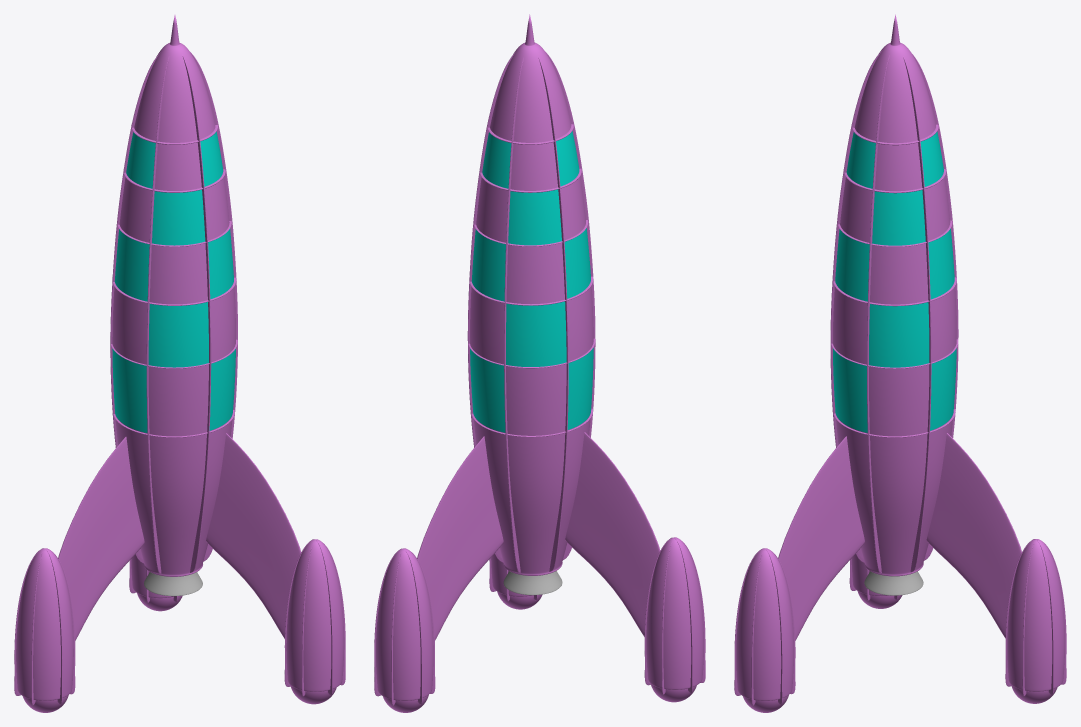
Rendered from Rocket.fbx.
3 renders of one model, left to right at view 1: azimuth 30°, elevation 25°; view 2: azimuth 150°, elevation 25°; view 3: azimuth 270°, elevation 25°, orthographic.
Visible parts, largest first — view 1: Rocket_01; view 2: Rocket_01; view 3: Rocket_01.
Boxes of the visible parts, x1,y1,x2,y2 form: Rocket_01: (14, 15, 345, 712); Rocket_01: (374, 14, 705, 712); Rocket_01: (734, 14, 1066, 712).
Size of the model in its own units: 725 by 1736 by 791.
